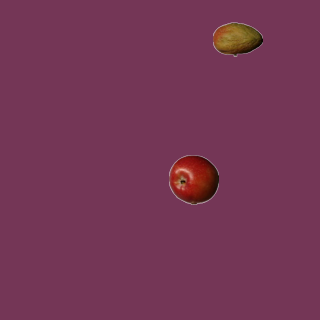Apple Braeburn: (168, 154, 218, 204)
Papaya: (212, 14, 262, 64)
